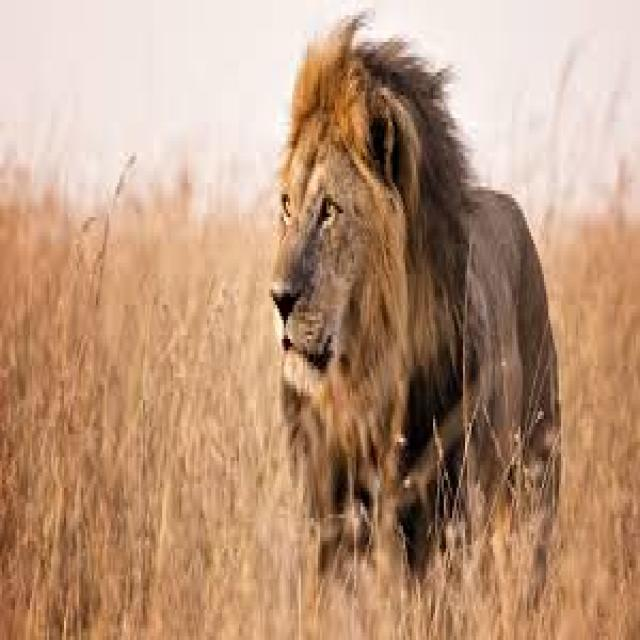Lion: (268, 20, 562, 626)
